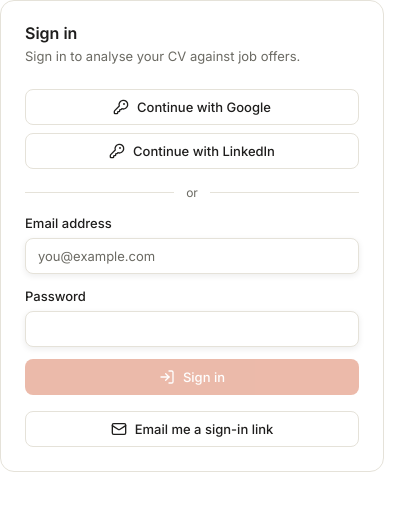
SignInForm › shows an error when the password sign-in is rejected
Step 1. Type "candidate@example.com" into the field labelled "Email address" → (192, 256), box [25,238,359,274]
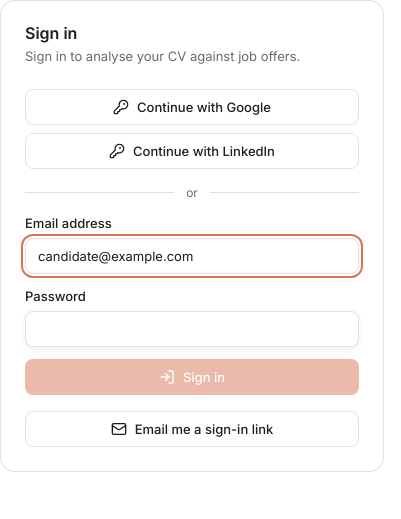
Step 2. Type "wrong password" into the password field labelled "Password" → (192, 329), box [25,311,359,347]
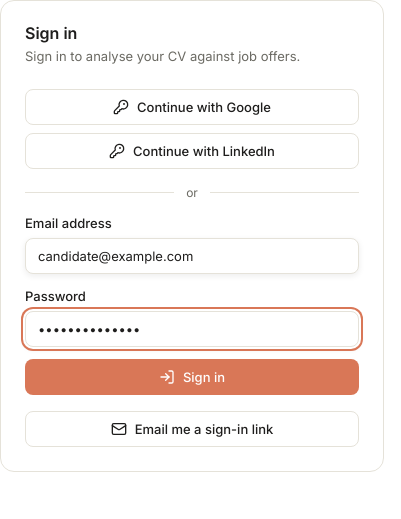
Step 3. Click the button "Sign in" → (192, 377), box [25,359,359,395]
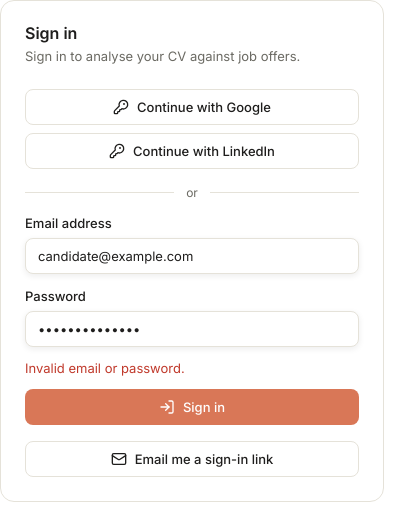
Check: the text "Invalid email or password." is shown, box [25,360,185,376]
